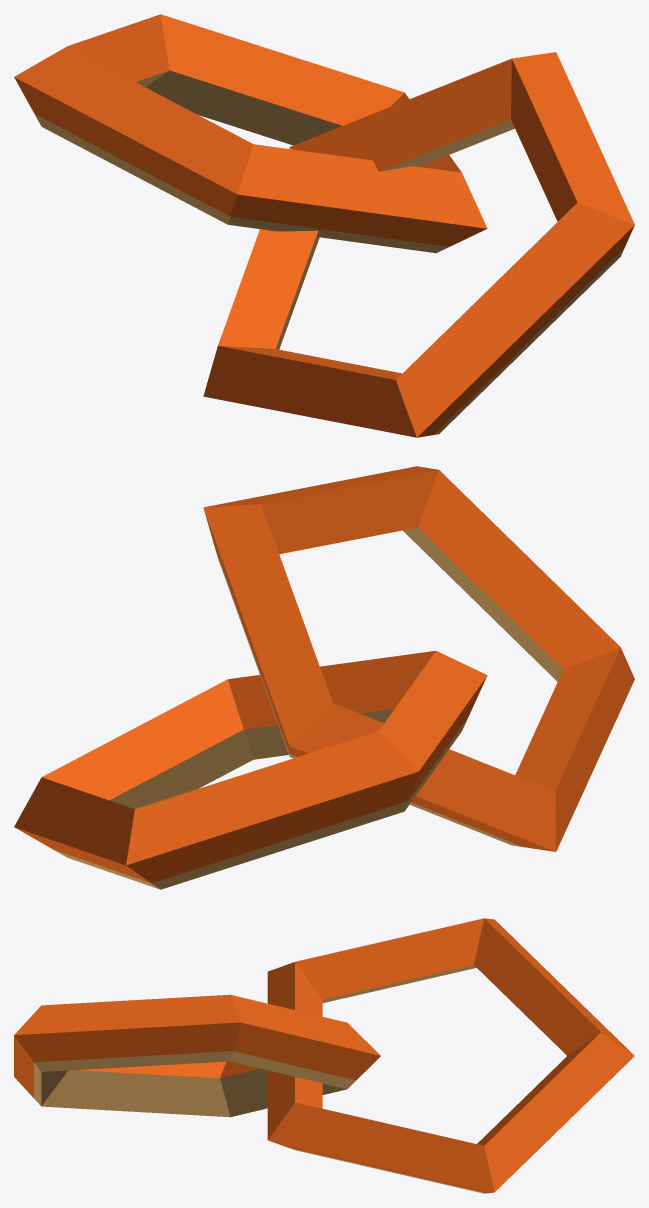
The model's file is Hook_ChainLink.fbx.
The picture shows the model from 3 angles, top to bottom: view 1: azimuth 30°, elevation 25°; view 2: azimuth 150°, elevation 25°; view 3: azimuth 270°, elevation 25°; orthographic projection. The views are drawn at different scales.
Visible parts, largest first — view 1: Hook_ChainLink; view 2: Hook_ChainLink; view 3: Hook_ChainLink.
Boxes of the visible parts, <box> form: Hook_ChainLink: <box>14,14,634,437</box>; Hook_ChainLink: <box>14,466,634,889</box>; Hook_ChainLink: <box>14,918,634,1193</box>.
Bounding box in the file's own units: 0.429 × 0.2837 × 0.7342.
